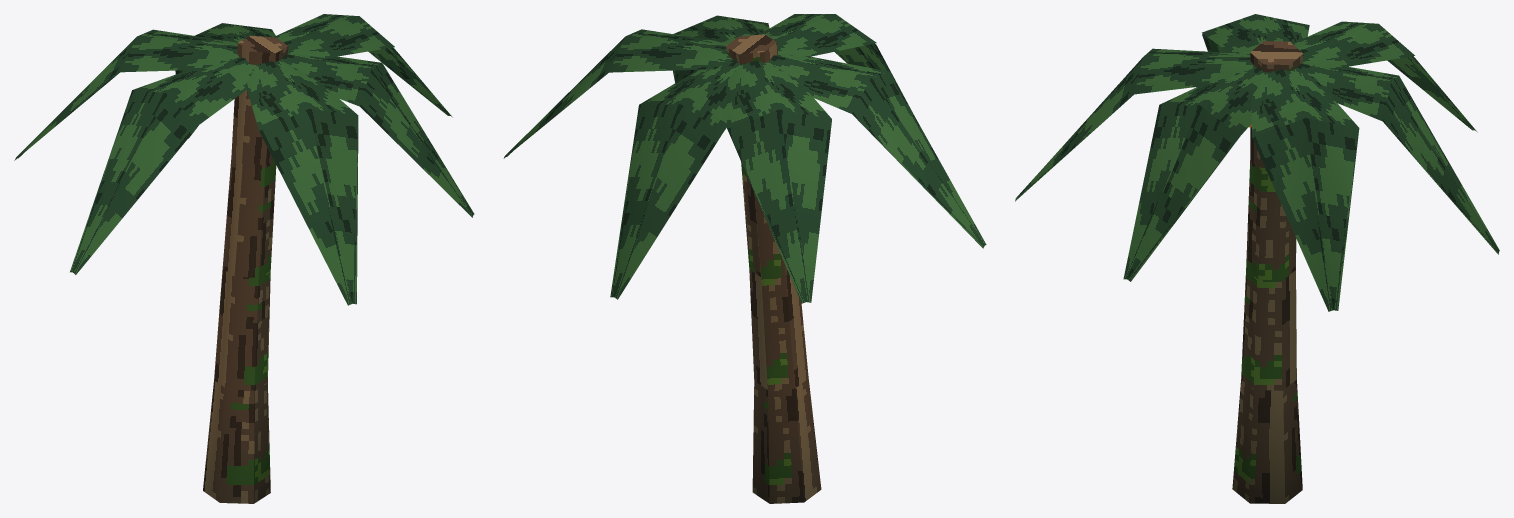
The model's file is wild.palm__young.glb.
3 views of the same model, side by side, from view 1: azimuth 30°, elevation 25°; view 2: azimuth 150°, elevation 25°; view 3: azimuth 270°, elevation 25° (orthographic). The views are drawn at different scales.
Parts seen in each view (by area): view 1: kit_shell_crown, kit_trunk; view 2: kit_shell_crown, kit_trunk; view 3: kit_shell_crown, kit_trunk.
Boxes of the visible parts, box(x1,y1,x2,y2) form: kit_shell_crown: box(14, 14, 474, 305); kit_trunk: box(203, 35, 288, 503); kit_shell_crown: box(503, 14, 986, 303); kit_trunk: box(726, 34, 821, 503); kit_shell_crown: box(1015, 14, 1499, 311); kit_trunk: box(1232, 41, 1302, 503).
Bounding box in the file's own units: 3.49 × 3.43 × 3.31.
Materials: 3 (3 with a texture image).
